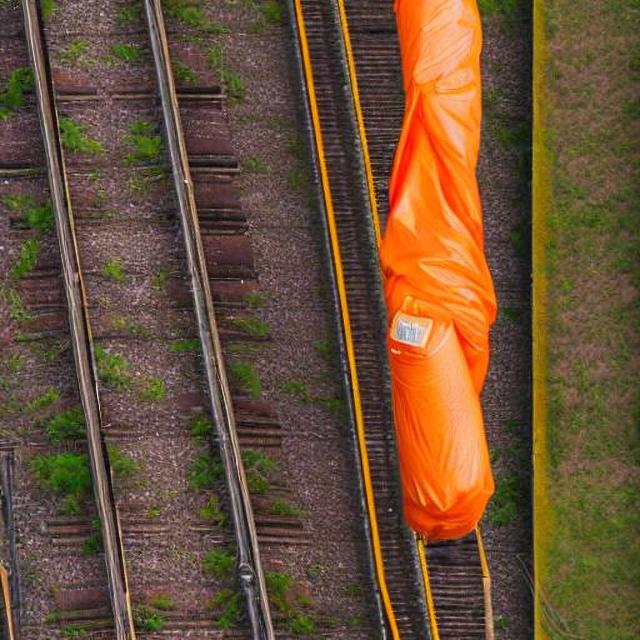plastic bag: (387, 0, 496, 538)
